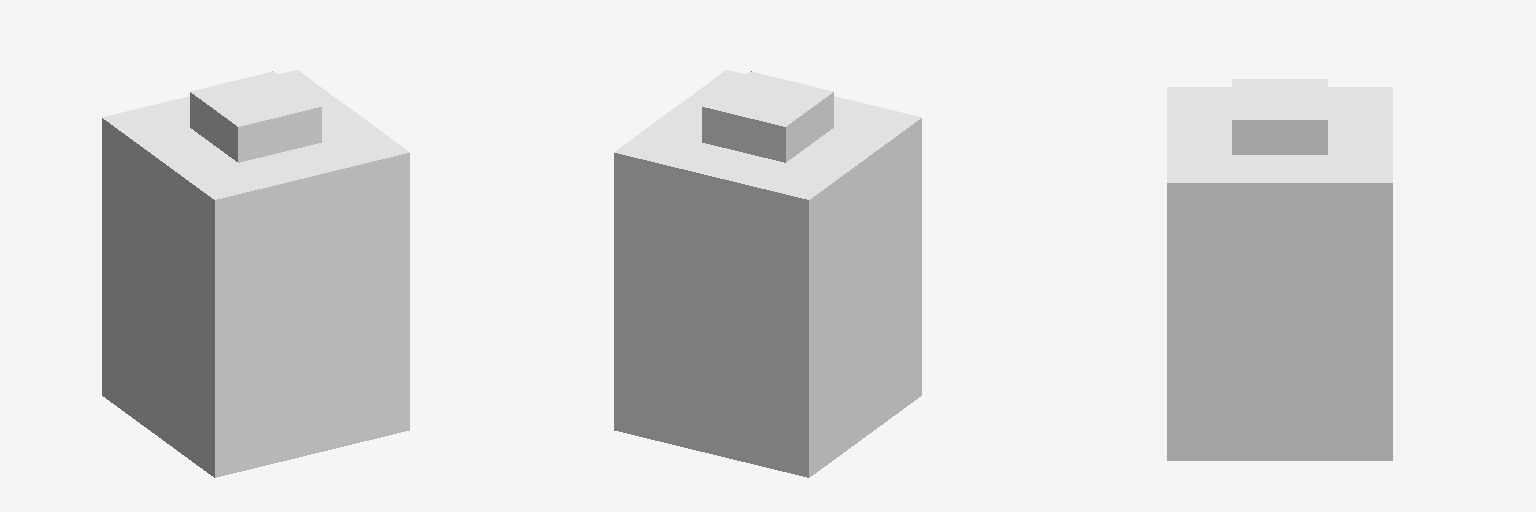
The model's file is GenericPotion.obj.
3 views of the same model, side by side, from view 1: azimuth 30°, elevation 25°; view 2: azimuth 150°, elevation 25°; view 3: azimuth 270°, elevation 25° (orthographic).
Visible parts, largest first — view 1: obj3, obj1, obj2; view 2: obj3, obj1, obj2; view 3: obj3, obj1, obj2.
Part boxes in pixels (x1,y1,x2,y2): obj3: (102, 70, 409, 477); obj1: (190, 71, 321, 162); obj2: (190, 95, 321, 160); obj3: (614, 70, 921, 477); obj1: (702, 71, 833, 162); obj2: (702, 71, 833, 162); obj3: (1167, 87, 1392, 460); obj1: (1232, 79, 1327, 154); obj2: (1232, 120, 1327, 154).
Bounding box in the file's own units: 1.75 × 2.68 × 1.75.